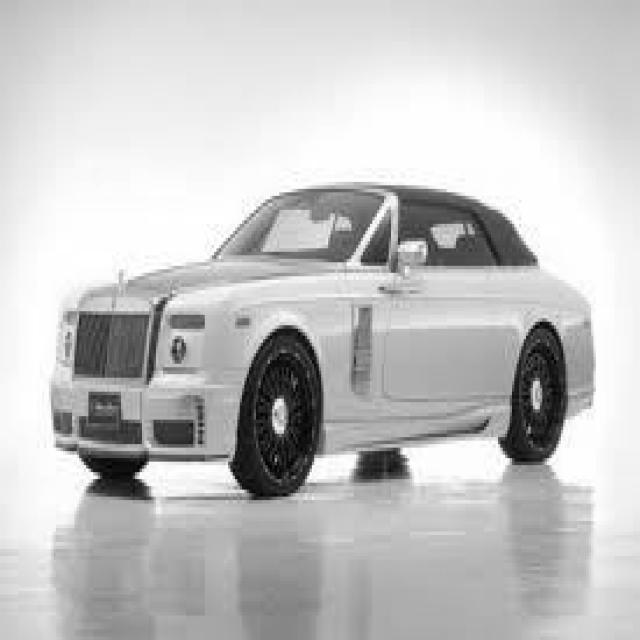car: (49, 178, 596, 497)
